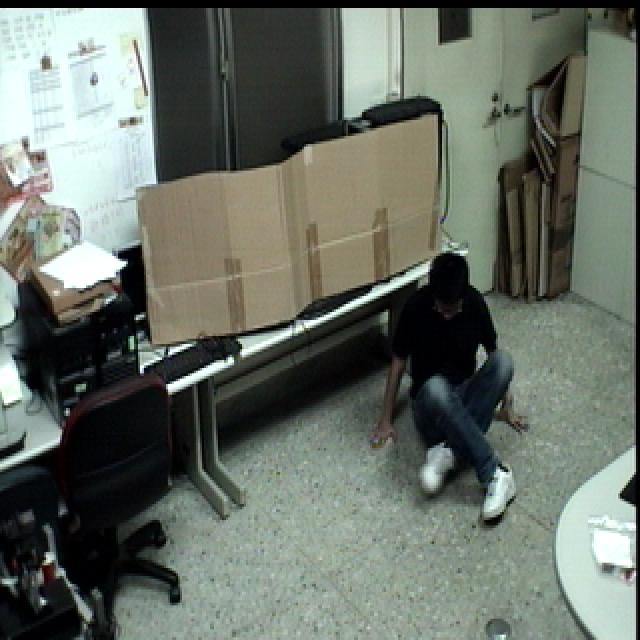sit: (366, 249, 537, 530)
